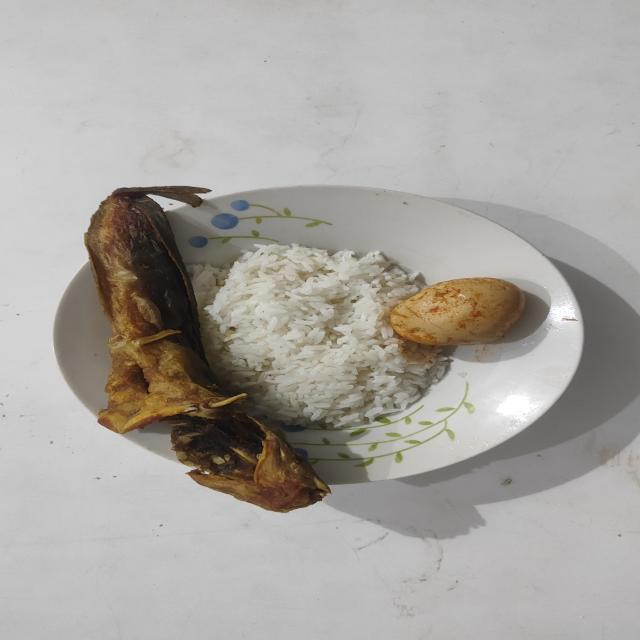nasi_putih: (186, 243, 448, 430)
